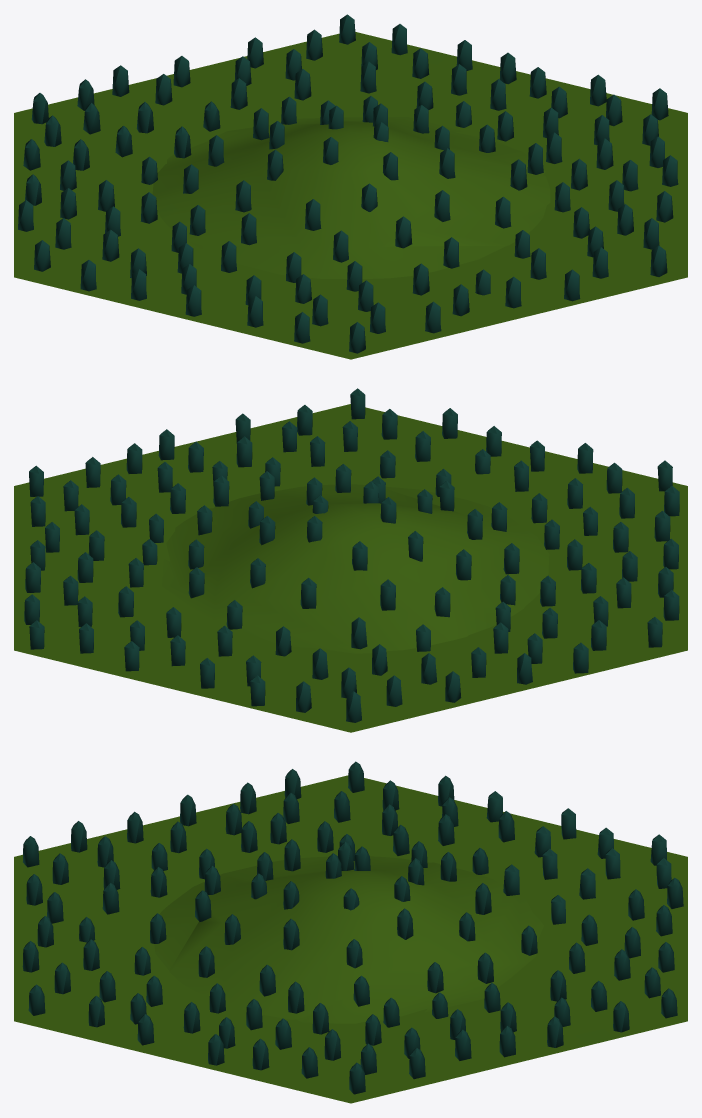
The model's file is Montaña_PTI2.fbx.
3 renders of one model, top to bottom at view 1: azimuth 30°, elevation 25°; view 2: azimuth 150°, elevation 25°; view 3: azimuth 270°, elevation 25°, orthographic.
Parts seen in each view (by area): view 1: Punto_I.001; view 2: Punto_I.001; view 3: Punto_I.001.
Boxes of the visible parts, x1,y1,x2,y2 form: Punto_I.001: (14, 14, 687, 359); Punto_I.001: (14, 388, 687, 732); Punto_I.001: (14, 761, 687, 1103).
Size of the model in its own units: 139 by 15.39 by 120.
1 material, 1 textured.
